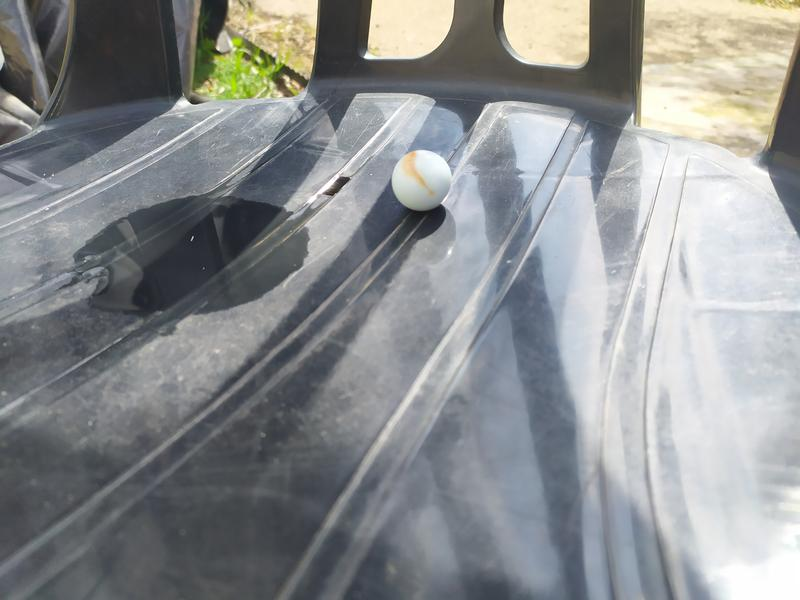Warning: (390, 148, 454, 214)
